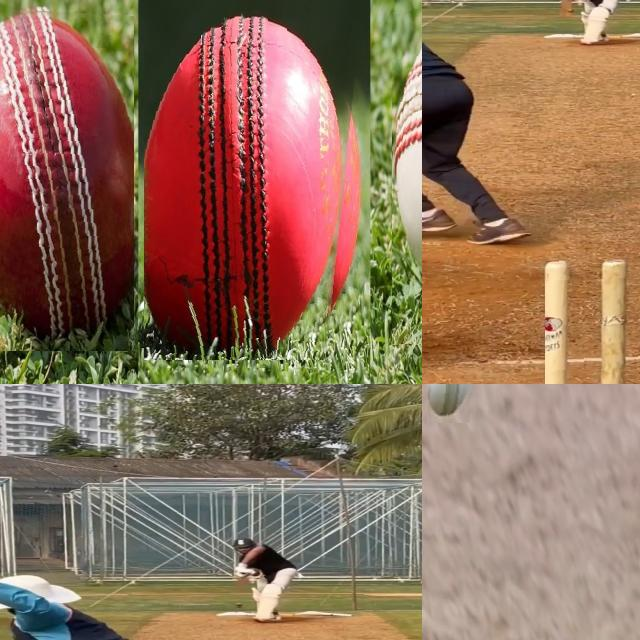Cricket ball: (144, 0, 362, 360), (0, 6, 133, 351), (427, 384, 478, 423), (235, 604, 243, 608), (568, 8, 574, 13)
Stumps: (544, 258, 640, 384)
